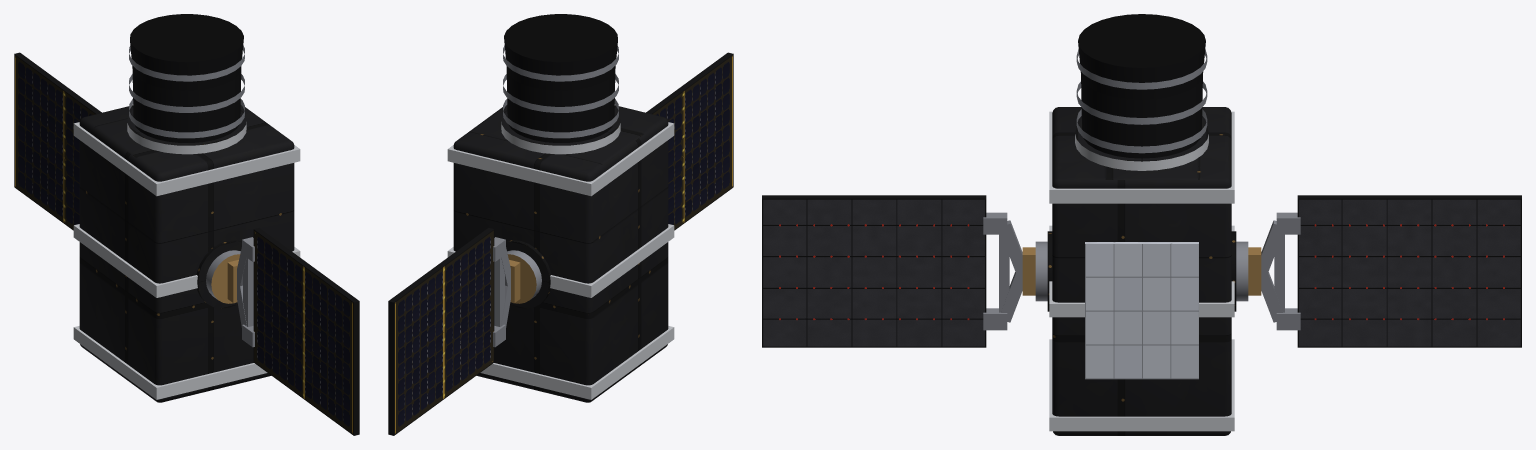
Rendered from skysat.glb.
The picture shows the model from 3 angles, left to right: view 1: azimuth 30°, elevation 25°; view 2: azimuth 150°, elevation 25°; view 3: azimuth 270°, elevation 25°; orthographic projection. The views are drawn at different scales.
Parts seen in each view (by area): view 1: bus, wing-Y, wing+Y, sadm_-Y; view 2: bus, wing+Y, wing-Y, sadm_+Y; view 3: bus, wing+Y, wing-Y, sadm_+Y, sadm_-Y.
Part boxes in pixels (box(x1,y1,x2,y2)): bus: box(73, 14, 300, 402); wing-Y: box(227, 228, 359, 435); wing+Y: box(14, 52, 101, 230); sadm_-Y: box(196, 240, 241, 308); bus: box(447, 14, 674, 402); wing+Y: box(388, 228, 520, 435); wing-Y: box(646, 52, 733, 230); sadm_+Y: box(506, 240, 551, 308); bus: box(1049, 14, 1234, 435); wing+Y: box(1248, 195, 1521, 347); wing-Y: box(762, 195, 1035, 347); sadm_+Y: box(1231, 231, 1248, 311); sadm_-Y: box(1035, 231, 1052, 311).
Size of the model in its own units: 0.6275 by 1.33 by 2.54.
11 materials, 4 textured.
